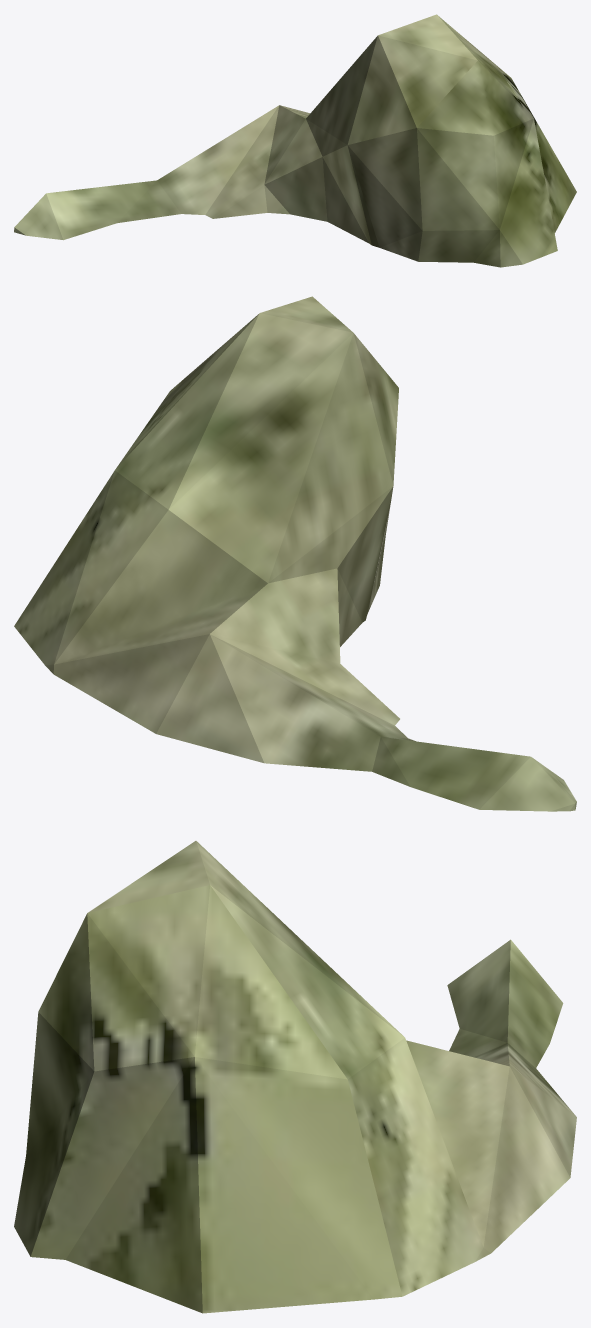
3 renders of one model, top to bottom at view 1: azimuth 30°, elevation 25°; view 2: azimuth 150°, elevation 25°; view 3: azimuth 270°, elevation 25°, orthographic. The views are drawn at different scales.
Size of the model in its own units: 1.19 by 0.5148 by 0.81.
1 material, 1 textured.
